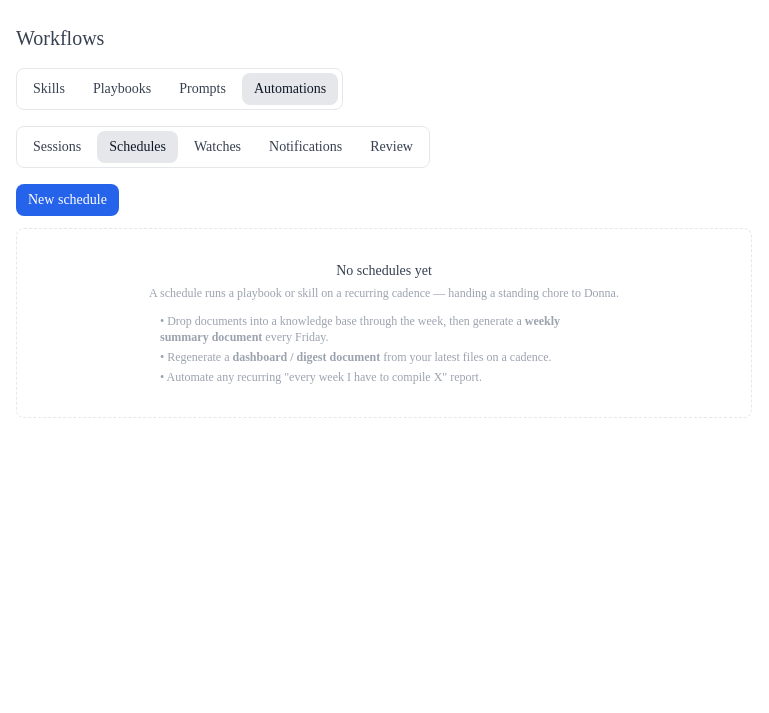
Test: /automations/schedules page › reveals the inline create form when "New schedule" is clicked
This screenshot has width=769, height=713.
Check: the button "save schedule" is not shown
Click the button "New schedule" at (67,200), box [16,184,119,216]
(page scrolled)
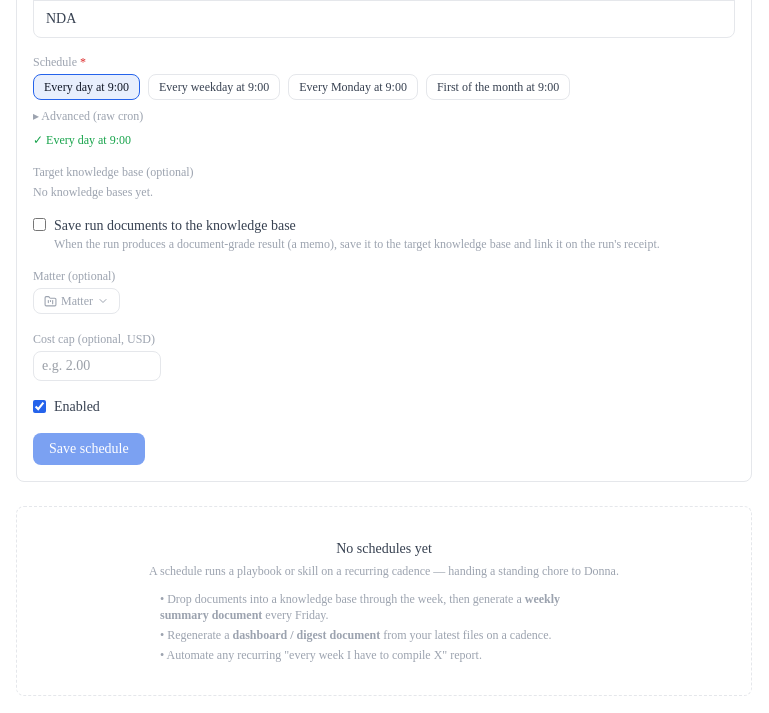
Check: the button "Save schedule" is shown, box [33,432,145,464]
